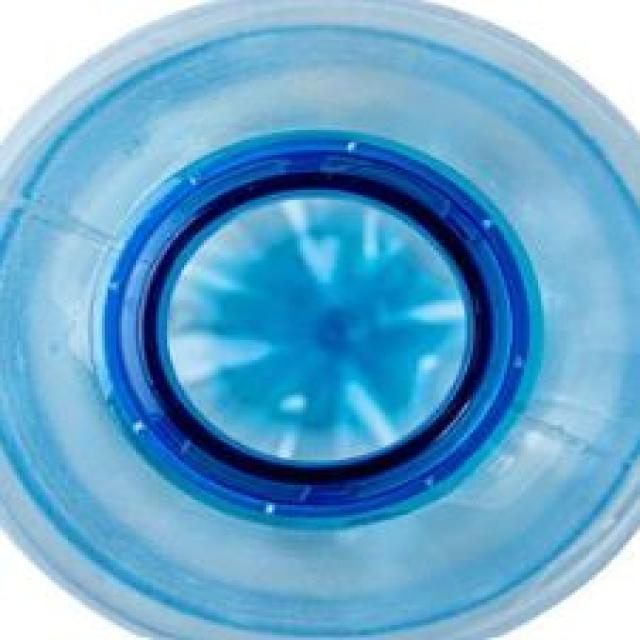general: (0, 0, 637, 638)
